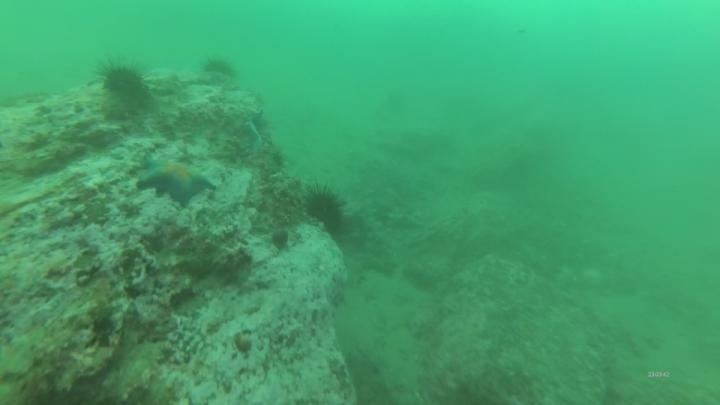echinus: (302, 183, 350, 238), (95, 58, 152, 103), (200, 54, 238, 82)
starfish: (136, 154, 219, 207), (239, 111, 271, 160)
